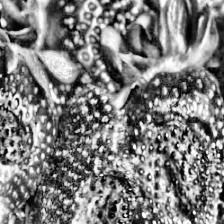Anthracnose Fruit Rot: (134, 116, 224, 224), (70, 169, 140, 224), (0, 102, 33, 171)
